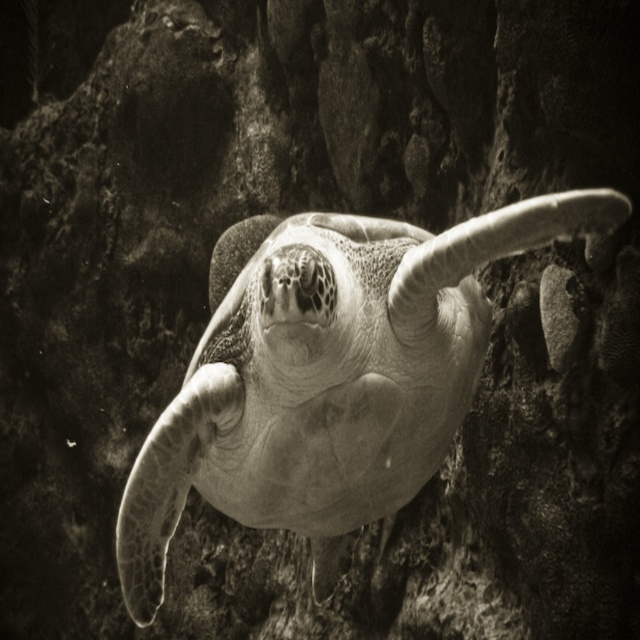Sea turtle: (116, 180, 634, 625)
